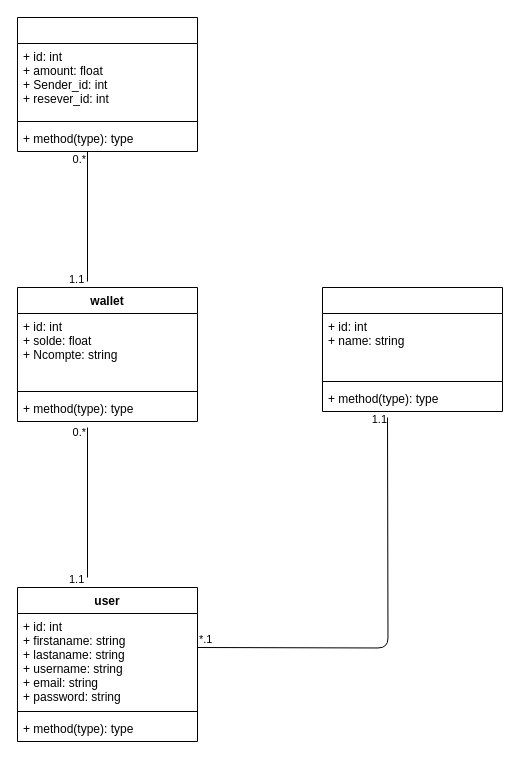
The diagram is 520 pixels wide and 762 high, and some of its shapes have lost their labels. Each missing label, with the box of its shape:
role: (322, 286, 502, 412)
transaction: (16, 16, 198, 152)
